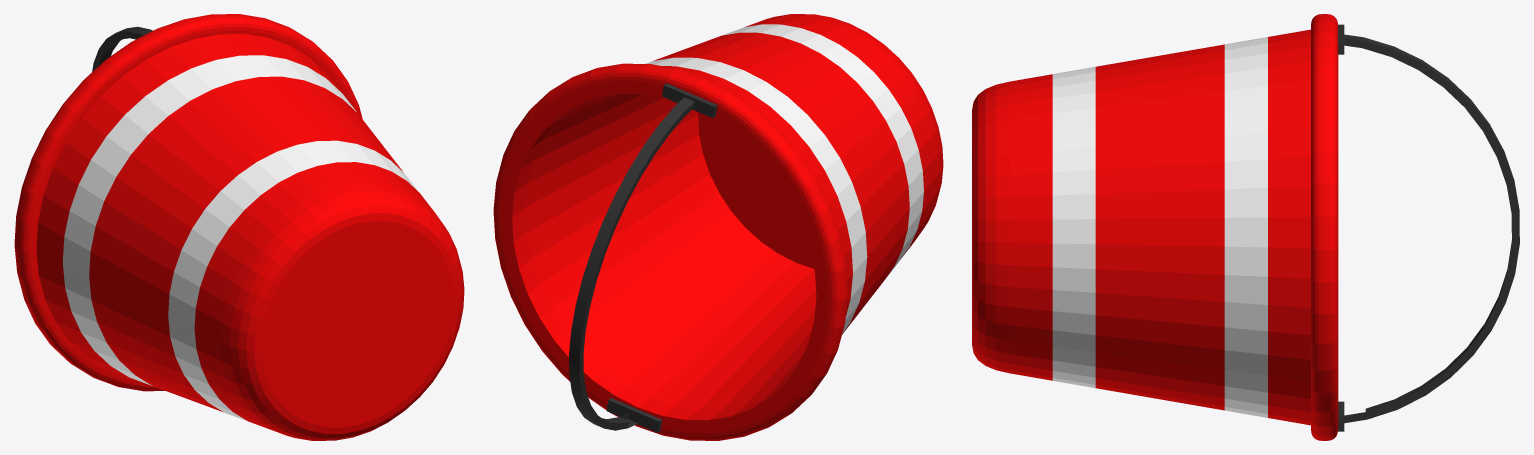
The model's file is Bucket.fbx.
The picture shows the model from 3 angles, left to right: view 1: azimuth 30°, elevation 25°; view 2: azimuth 150°, elevation 25°; view 3: azimuth 270°, elevation 25°; orthographic projection. The views are drawn at different scales.
Parts seen in each view (by area): view 1: imagetostl_mesh0, imagetostl_mesh3; view 2: imagetostl_mesh0, imagetostl_mesh3, imagetostl_mesh1, imagetostl_mesh2; view 3: imagetostl_mesh0, imagetostl_mesh3.
Boxes of the visible parts, x1,y1,x2,y2 form: imagetostl_mesh0: (14,14,464,440); imagetostl_mesh3: (92,26,152,71); imagetostl_mesh0: (493,14,943,440); imagetostl_mesh3: (569,97,694,430); imagetostl_mesh1: (606,398,662,432); imagetostl_mesh2: (662,83,717,118); imagetostl_mesh0: (972,14,1338,440); imagetostl_mesh3: (1344,34,1519,423).
Size of the model in its own units: 4.63e+07 by 4.63e+07 by 5.93e+07.
